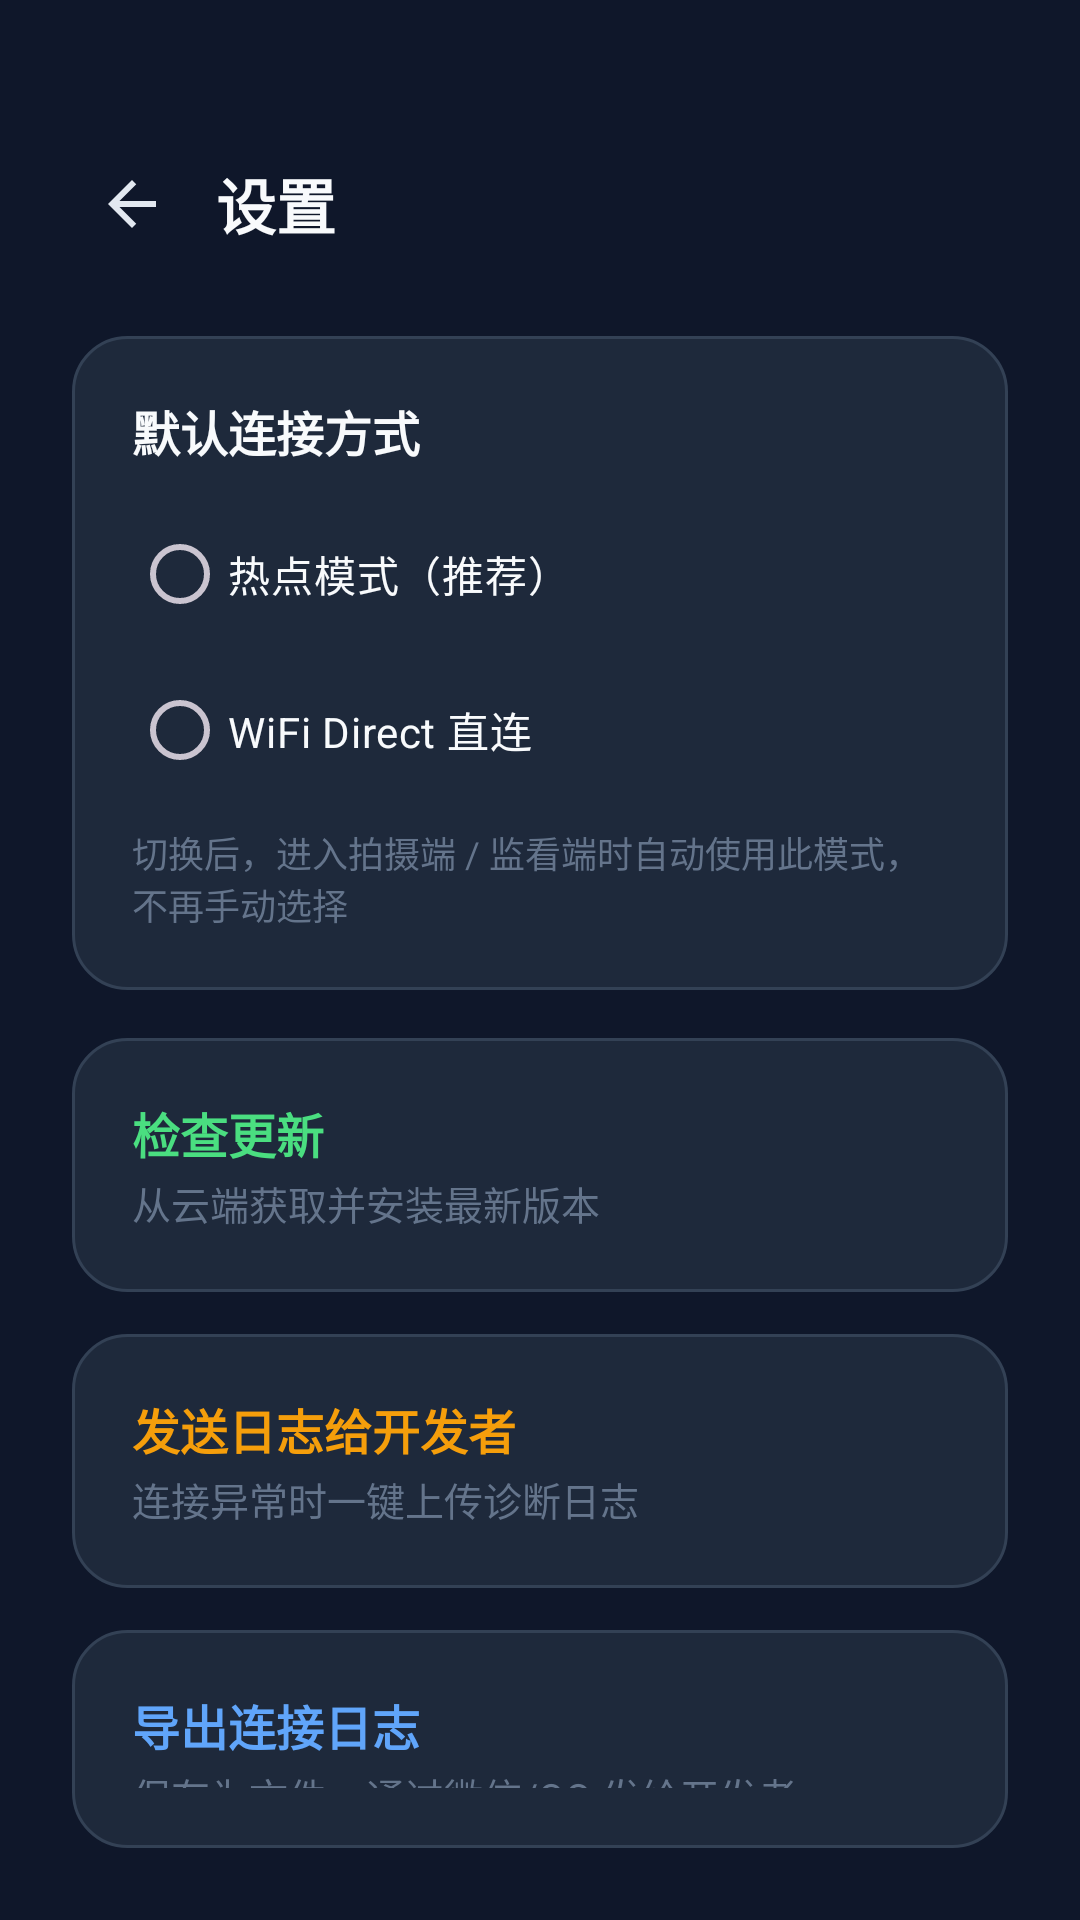

Locate icon controls on the screen. Image size 1080px×1920px, boxes as (x1, y1, x2, y2).
返回: (108, 180, 156, 228)
